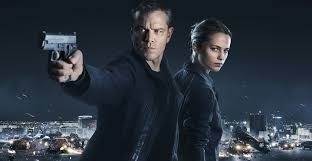pistol: (36, 27, 85, 62)
